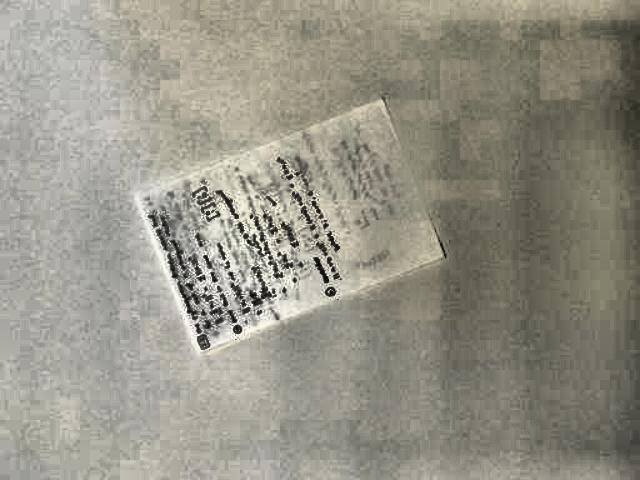Paper: (106, 92, 448, 361)
